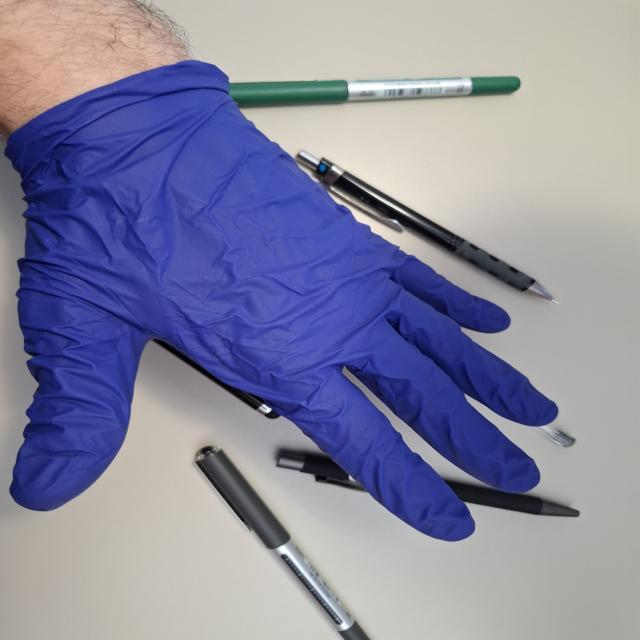glove_on: (3, 62, 564, 545)
